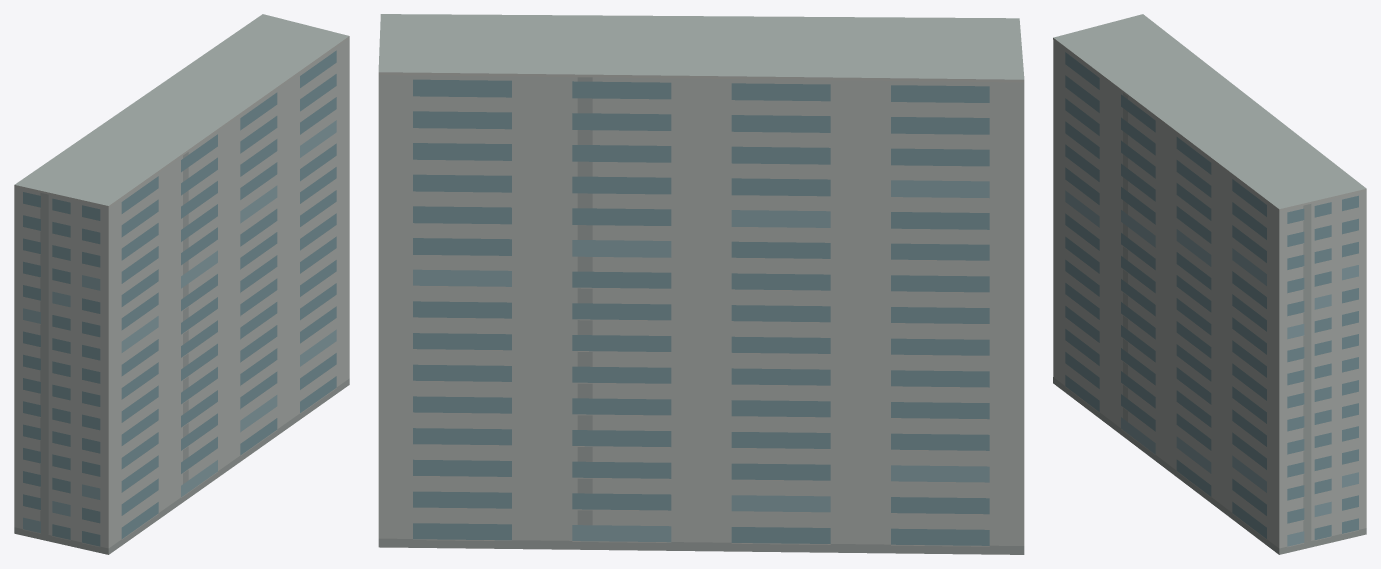
File: residential-91aa7d11-0f9a-4c64-ac9e-35609b491e8e.glb
3 renders of one model, left to right at view 1: azimuth 30°, elevation 25°; view 2: azimuth 150°, elevation 25°; view 3: azimuth 270°, elevation 25°, orthographic. The views are drawn at different scales.
Visible parts, largest first — view 1: residential-91aa7d11-0f9a-4c64-ac9e-35609b491e8e.tmp; view 2: residential-91aa7d11-0f9a-4c64-ac9e-35609b491e8e.tmp; view 3: residential-91aa7d11-0f9a-4c64-ac9e-35609b491e8e.tmp.
Part boxes in pixels (left/top/right/bottom): residential-91aa7d11-0f9a-4c64-ac9e-35609b491e8e.tmp: left=14, top=14, right=349, bottom=554; residential-91aa7d11-0f9a-4c64-ac9e-35609b491e8e.tmp: left=378, top=14, right=1024, bottom=554; residential-91aa7d11-0f9a-4c64-ac9e-35609b491e8e.tmp: left=1053, top=14, right=1366, bottom=554.
Size of the model in its own units: 50.88 by 42 by 34.54.
